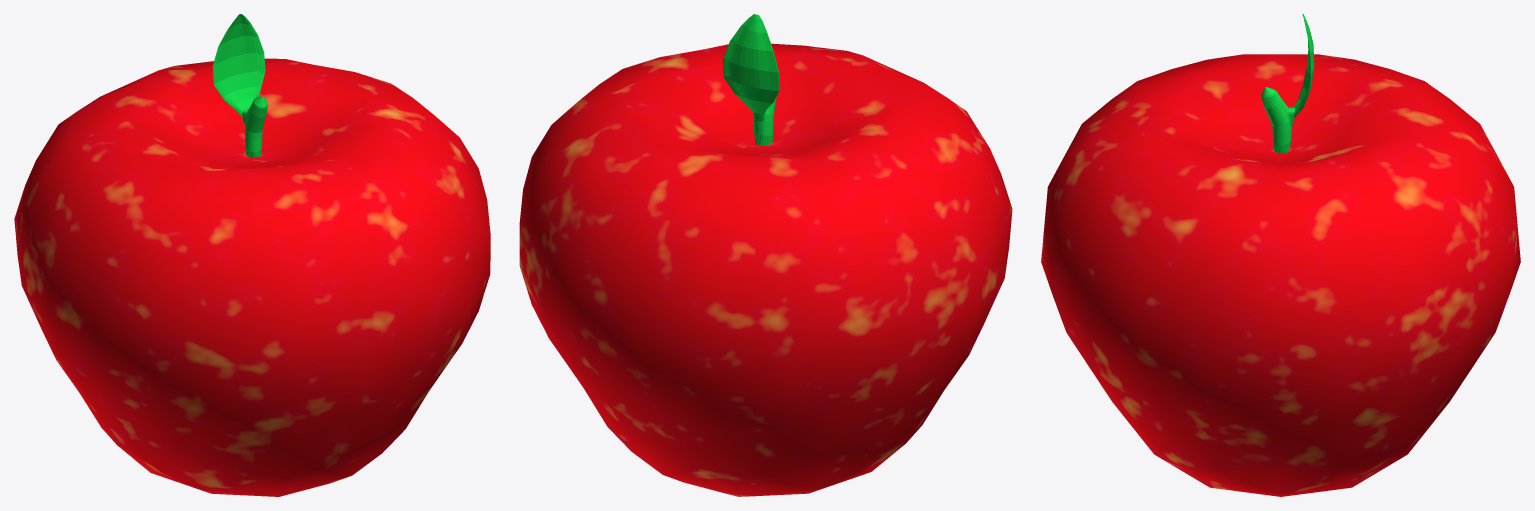
File: apple.fbx
3 renders of one model, left to right at view 1: azimuth 30°, elevation 25°; view 2: azimuth 150°, elevation 25°; view 3: azimuth 270°, elevation 25°, orthographic. The views are drawn at different scales.
Visible parts, largest first — view 1: Apple; view 2: Apple; view 3: Apple.
Part boxes in pixels (x1,y1,x2,y2): Apple: (14, 14, 490, 496); Apple: (519, 14, 1012, 496); Apple: (1041, 14, 1520, 496).
Bounding box in the file's own units: 1.82 × 1.81 × 1.8.
Materials: 2 (1 with a texture image).
